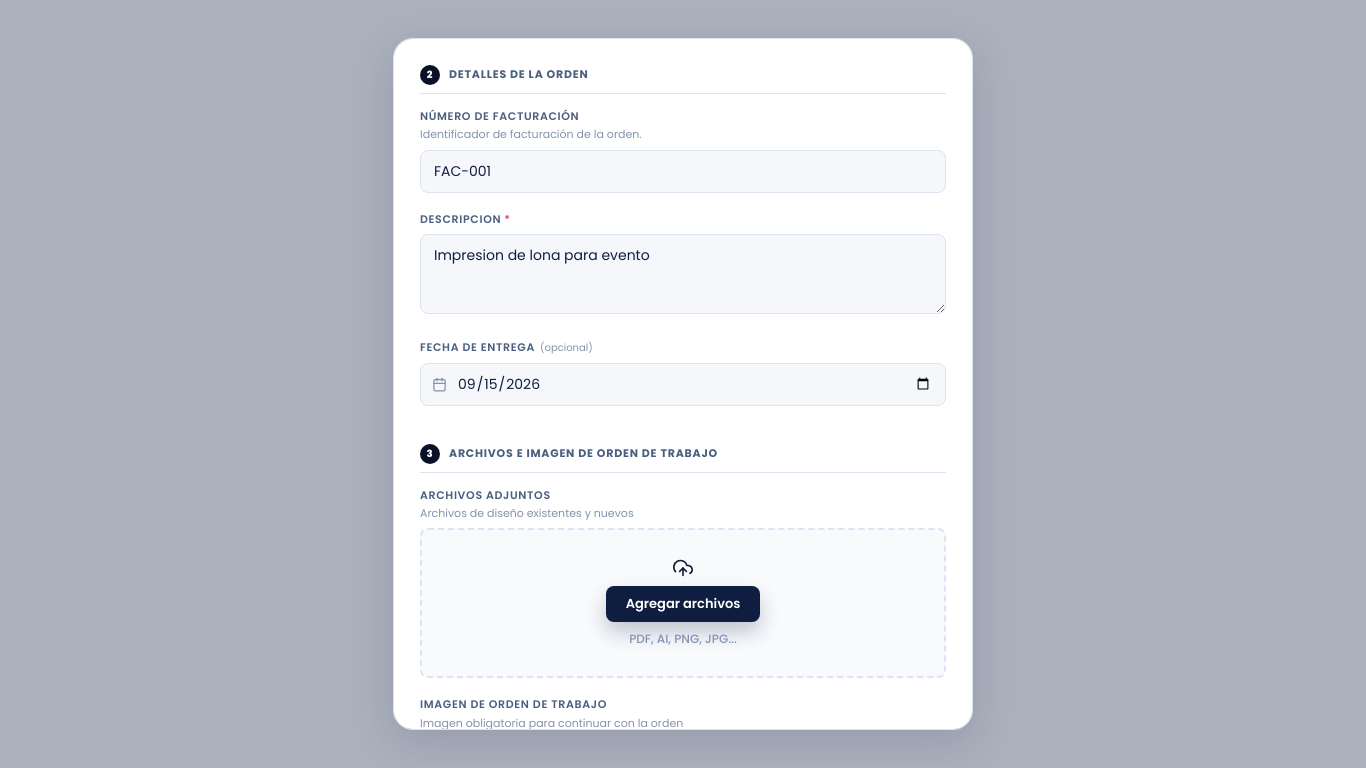
EditOrderModal seller hydration › does not allow the existing delivery date to be submitted empty
(page scrolled)
Clear the date field showing "2026-09-15" at point(683, 384), box [420,363,946,406]
(page scrolled)
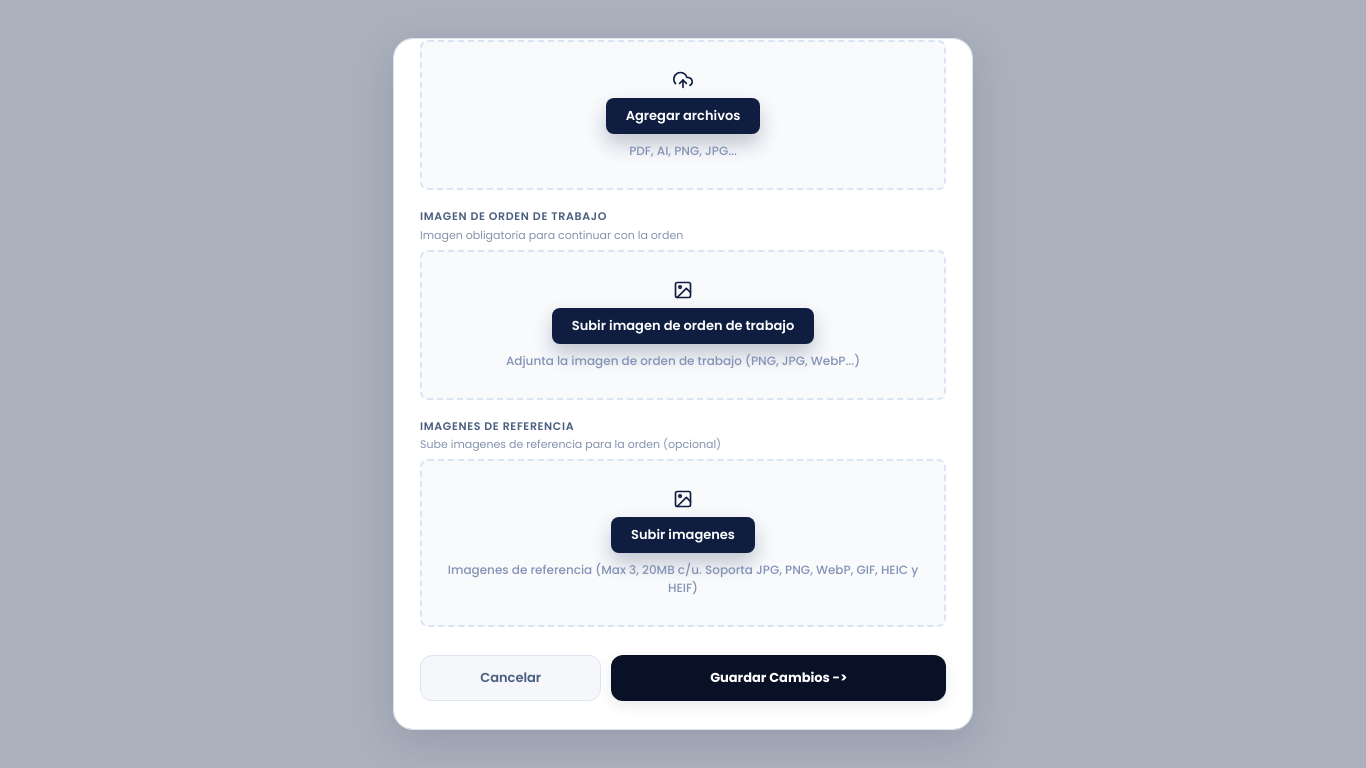
Click the button "Guardar Cambios ->" at point(779, 678), box [611,655,946,700]
(page scrolled)
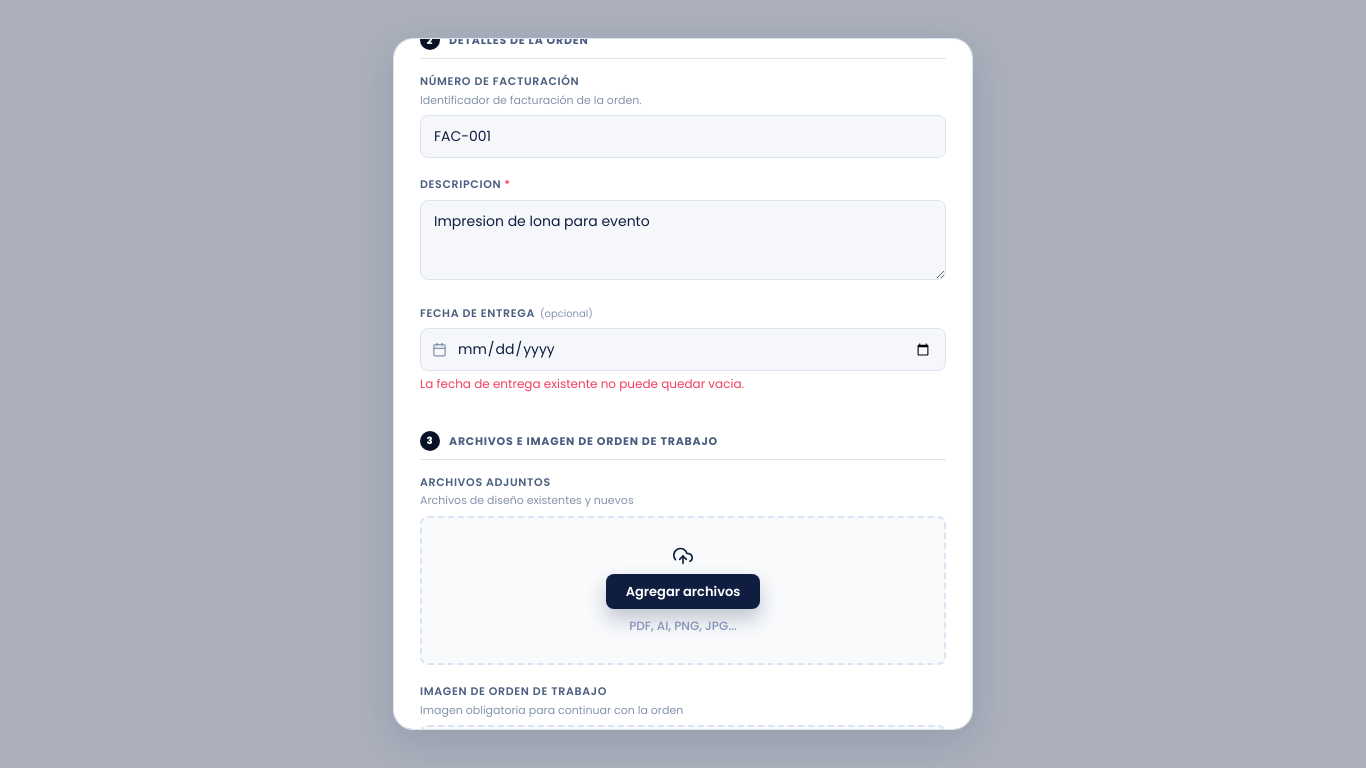
Check: the text "La fecha de entrega existente no puede quedar vacia." is shown, box [420,375,744,392]
